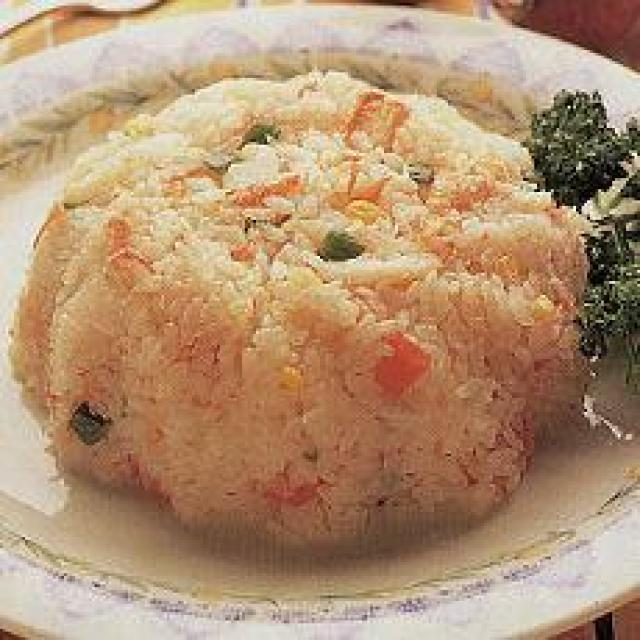米饭主食: (0, 58, 640, 579)
